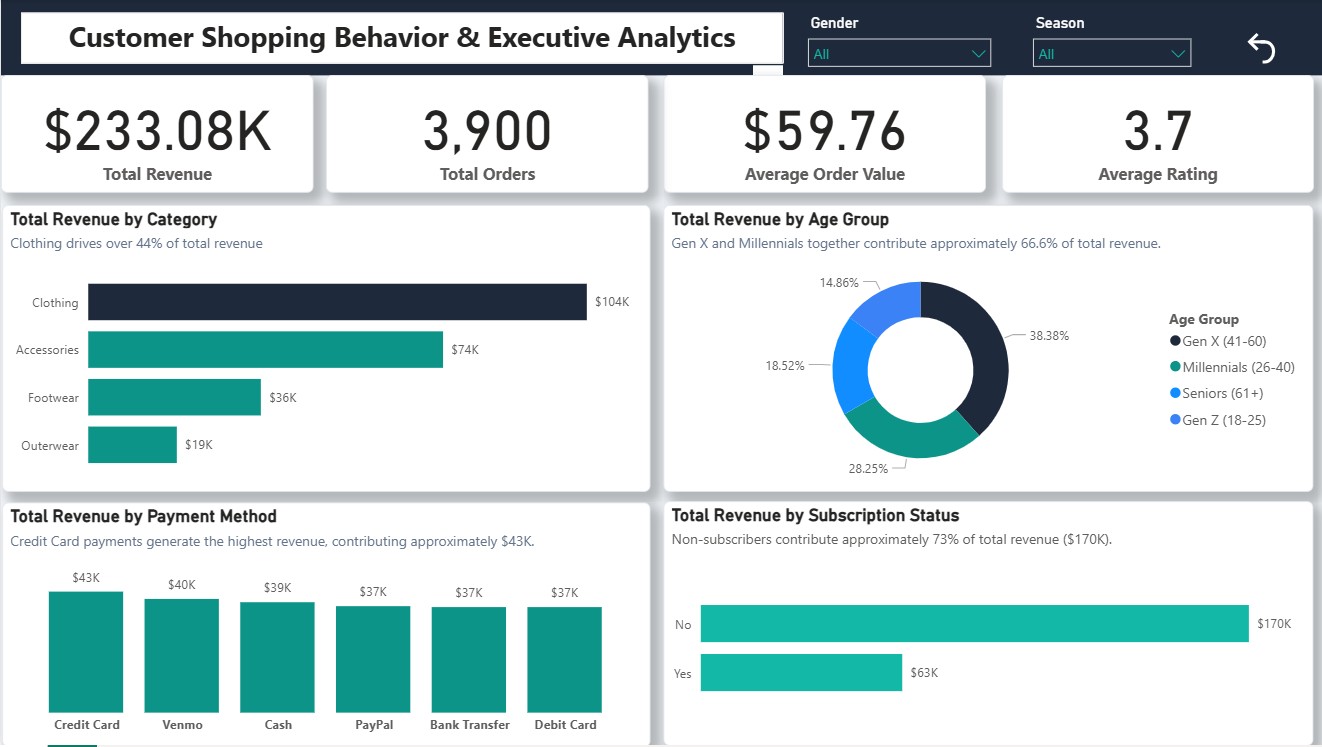

What the dashboard file says about the page in this screenshot:
{"tool":"powerbi","page":{"name":"Page 1","canvas":[1280,720],"ordinal":0},"visuals":[{"type":"shape","box":[0,0,1280.3,72.7],"z":0},{"type":"textbox","box":[19.2,12.3,735.5,49.4],"z":1000},{"type":"card","fields":{"Values":["_Key Measures.Total Revenue"]},"box":[0,72.7,301.9,113.9],"z":2000},{"type":"card","fields":{"Values":["_Key Measures.Average Order Value"]},"box":[639.5,72.7,311.5,113.9],"z":3000},{"type":"card","fields":{"Values":["_Key Measures.Total Orders"]},"box":[314.2,72.7,311.5,113.9],"z":4000},{"type":"card","fields":{"Values":["_Key Measures.Average Rating"]},"box":[966,72.7,300.5,113.9],"z":5000},{"type":"clusteredBarChart","title":"Total Revenue by Category","fields":{"Category":["cleaned_shopping_trends.category"],"Y":["_Key Measures.Total Revenue"]},"box":[1.4,197.6,625.7,277.2],"z":6000},{"type":"donutChart","title":"Total Revenue by Age Group","fields":{"Category":["cleaned_shopping_trends.age_group"],"Y":["_Key Measures.Total Revenue"]},"box":[639.5,197.6,627.1,277.2],"z":7000},{"type":"clusteredColumnChart","title":"Total Revenue by Payment Method","fields":{"Category":["cleaned_shopping_trends.payment_method"],"Y":["_Key Measures.Total Revenue"]},"box":[1.4,484.4,625.7,236],"z":8000},{"type":"clusteredBarChart","title":"Total Revenue by Subscription Status","fields":{"Category":["cleaned_shopping_trends.subscription_status"],"Y":["_Key Measures.Total Revenue"]},"box":[639,484,627,236],"z":9000},{"type":"slicer","fields":{"Values":["cleaned_shopping_trends.gender"]},"box":[768.4,8.2,197.6,57.6],"z":10000},{"type":"slicer","fields":{"Values":["cleaned_shopping_trends.season"]},"box":[985.3,8.2,172.9,57.6],"z":11000},{"type":"actionButton","box":[1196.6,26.1,53.5,39.8],"z":12000}]}

Visuals, with their boxes in screenshot pixels (x1, y1, x2, y2), scaled from the page's 1280x720 canvas onto the 1322x747 screenshot:
shape: <box>0,0,1321,75</box>
textbox: <box>20,13,779,64</box>
card - _Key Measures.Total Revenue: <box>0,75,312,194</box>
card - _Key Measures.Average Order Value: <box>660,75,982,194</box>
card - _Key Measures.Total Orders: <box>325,75,646,194</box>
card - _Key Measures.Average Rating: <box>998,75,1308,194</box>
"Total Revenue by Category" clusteredBarChart: <box>1,205,648,493</box>
"Total Revenue by Age Group" donutChart: <box>660,205,1308,493</box>
"Total Revenue by Payment Method" clusteredColumnChart: <box>1,503,648,746</box>
"Total Revenue by Subscription Status" clusteredBarChart: <box>660,502,1308,746</box>
slicer - cleaned_shopping_trends.gender: <box>794,9,998,68</box>
slicer - cleaned_shopping_trends.season: <box>1018,9,1196,68</box>
actionButton: <box>1236,27,1291,68</box>
